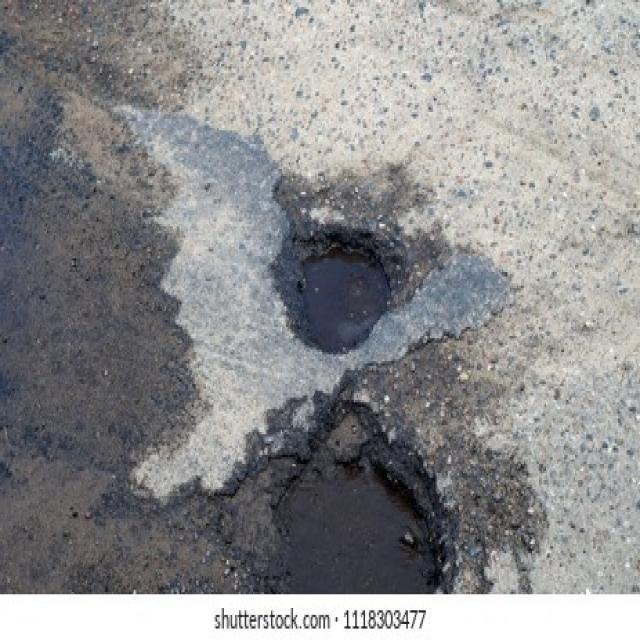Pothole: (267, 400, 448, 594), (293, 224, 397, 357)
